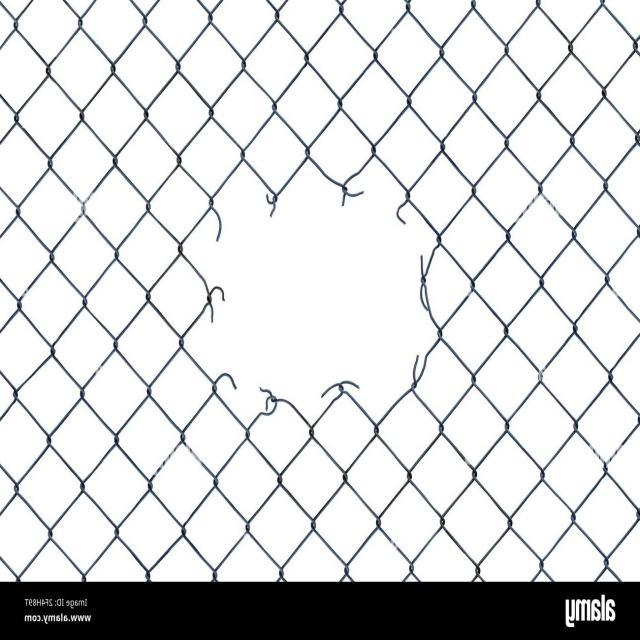fence line: (189, 161, 447, 414)
